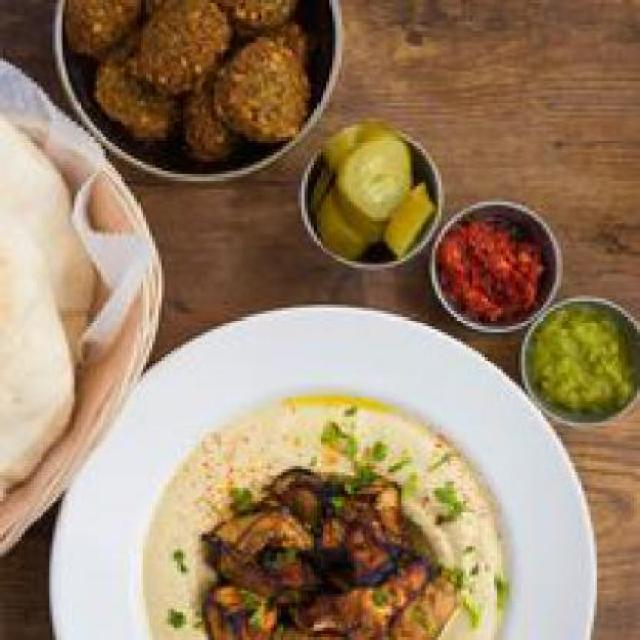eggplant: (211, 460, 457, 637)
guacamole: (525, 296, 633, 426)
hummus: (142, 391, 516, 637)
